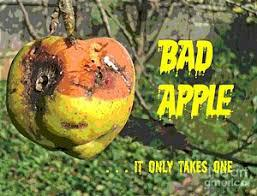damaged_apple: (8, 41, 133, 154)
